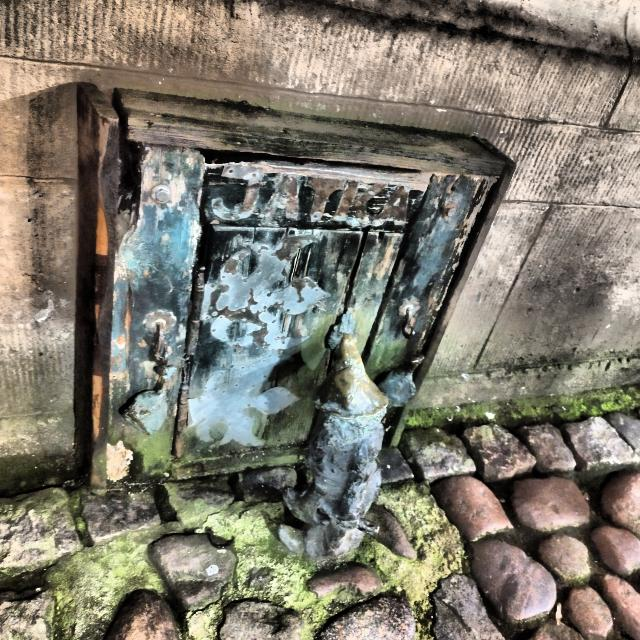Rzeznik: (284, 334, 388, 558)
